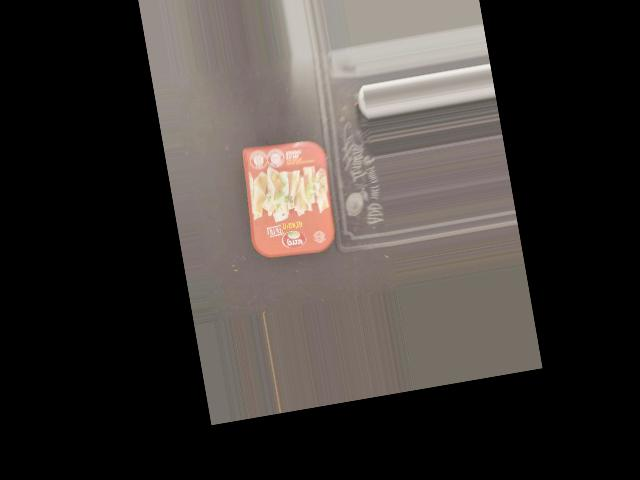cheese: (242, 137, 341, 262)
